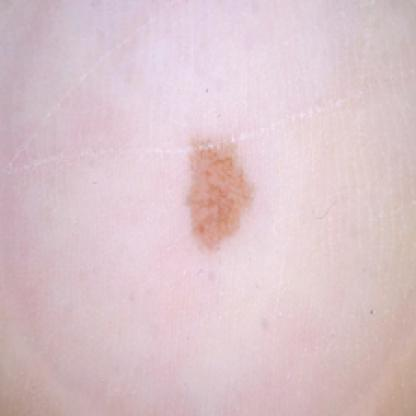benign: (186, 140, 252, 244)
